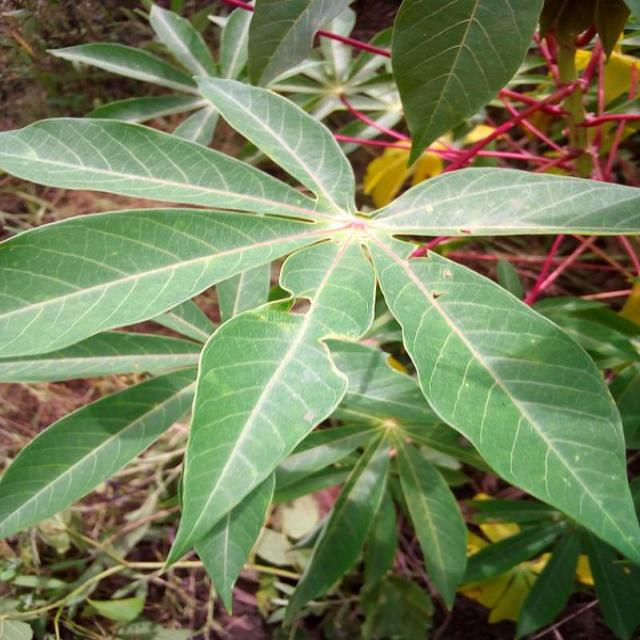cassava leaf: (2, 2, 640, 624), (369, 234, 640, 566), (390, 0, 546, 170)
